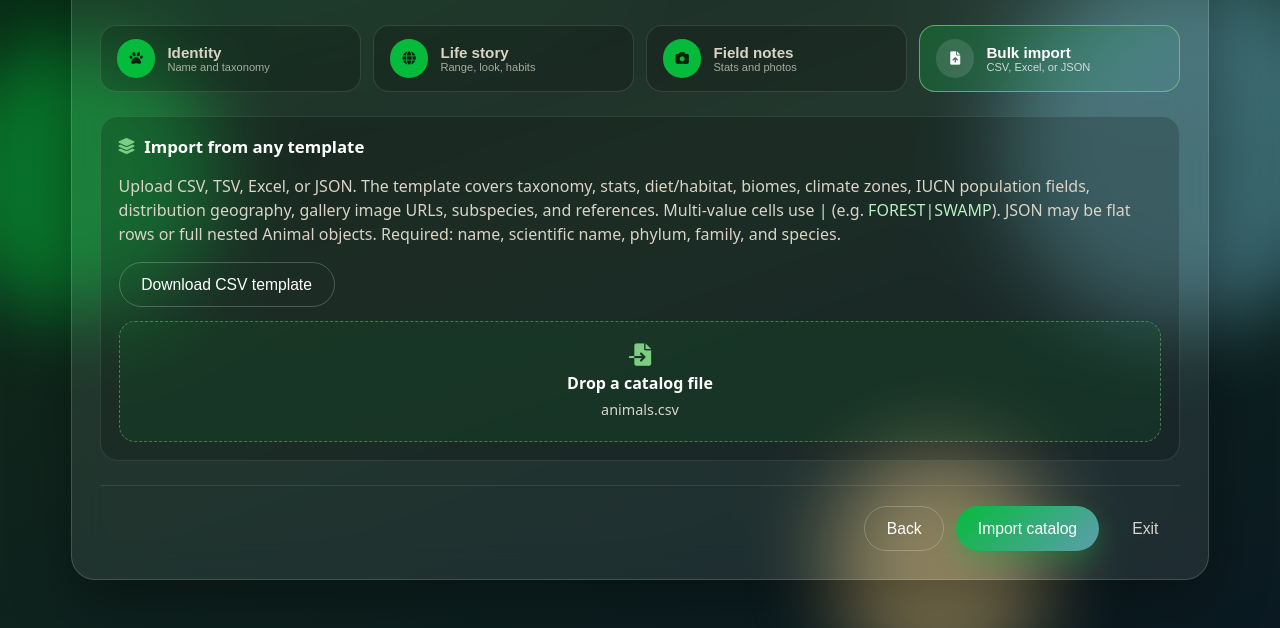
submits a file, polls the job and shows the results
Earlier steps of the test are not shown.
(page scrolled)
Click the button "Import catalog" at x=1027, y=529, box x1=956 y1=506 x2=1099 y2=552
(page scrolled)
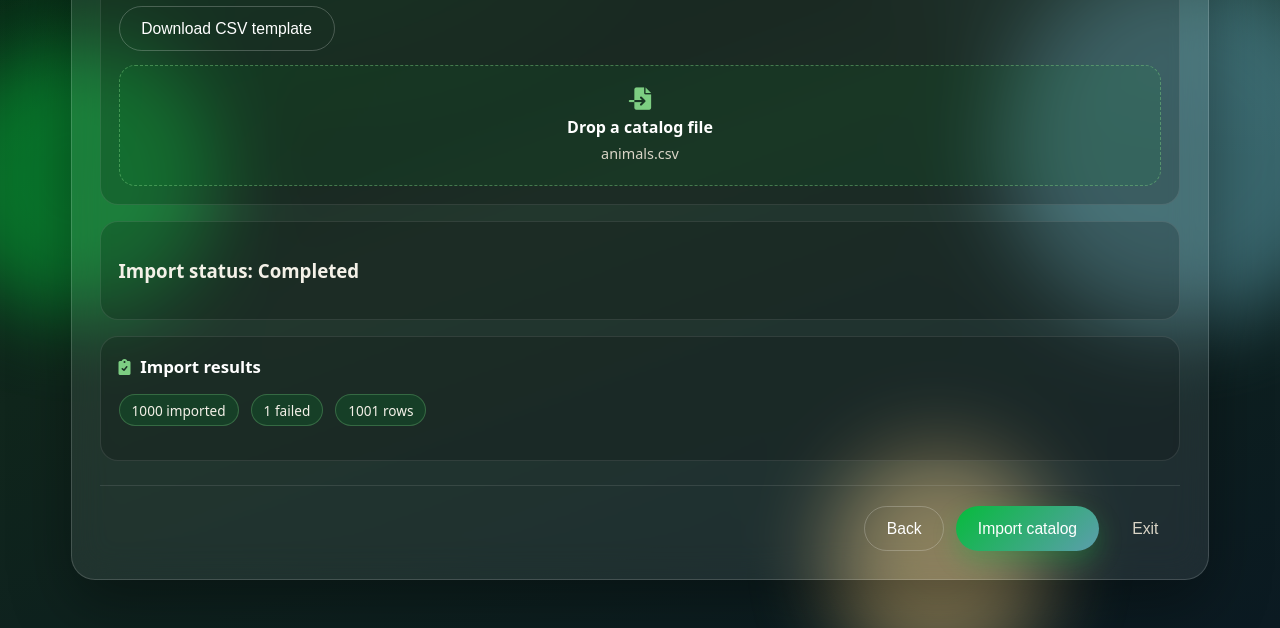
Now the text "1000 imported" is shown, box x1=119 y1=394 x2=239 y2=426
Now the heading "Import status: Completed" is shown, box x1=119 y1=258 x2=359 y2=283
Now the text "1 failed" is shown, box x1=251 y1=394 x2=323 y2=426
